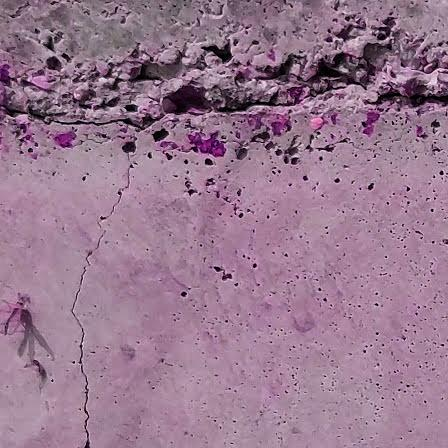crack: (48, 161, 136, 448), (213, 82, 348, 118), (46, 102, 166, 138), (0, 102, 46, 129), (81, 133, 128, 145)
spalling: (193, 12, 446, 95), (356, 82, 447, 125)
